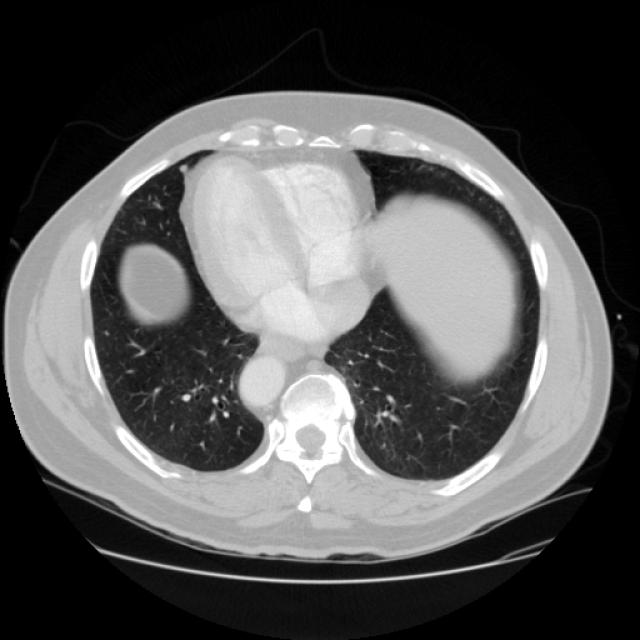nodule: (175, 158, 195, 178)
